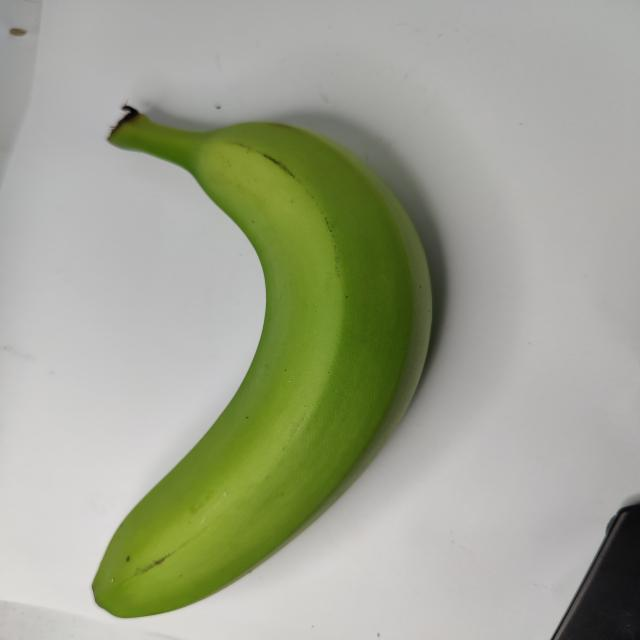raw: (55, 80, 438, 636)
